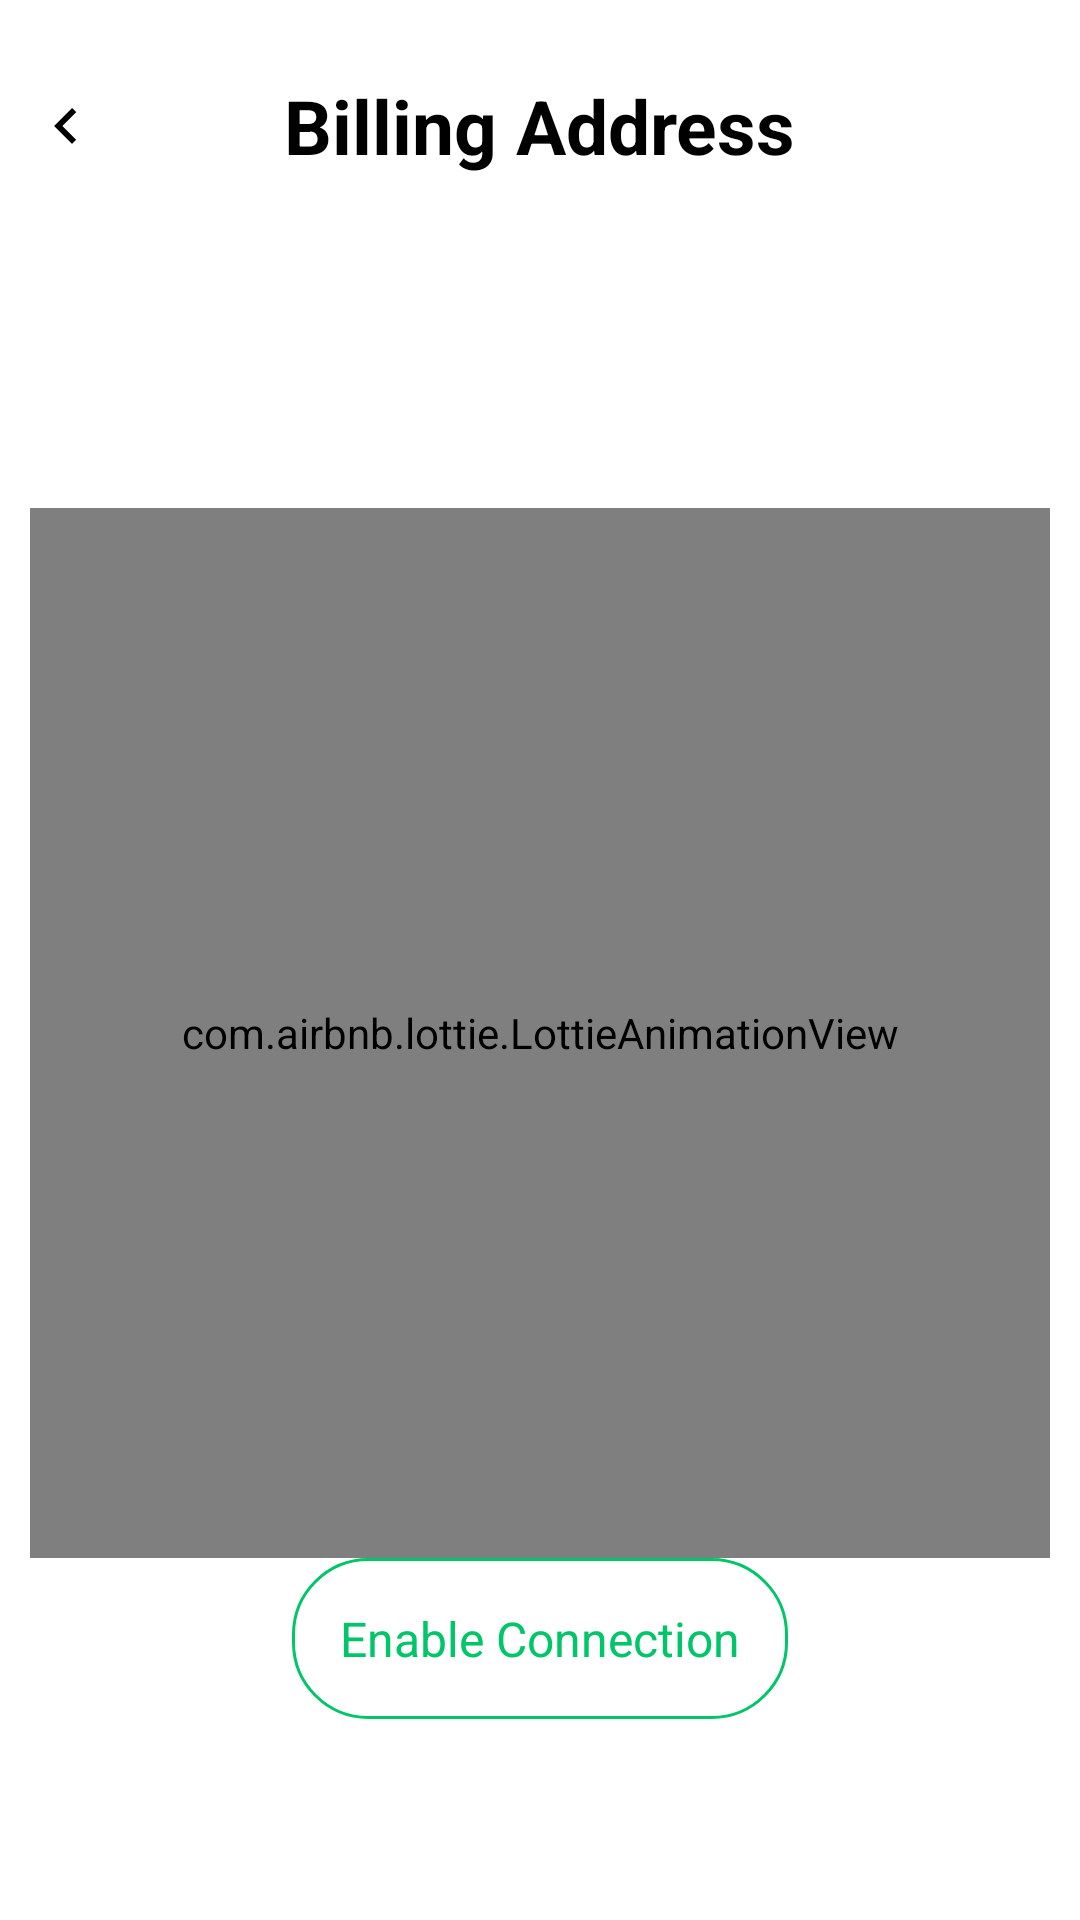

Named icons in this screenshot (1080px x 1920px) and their centers, (x,y):
Go back: (65,126)
